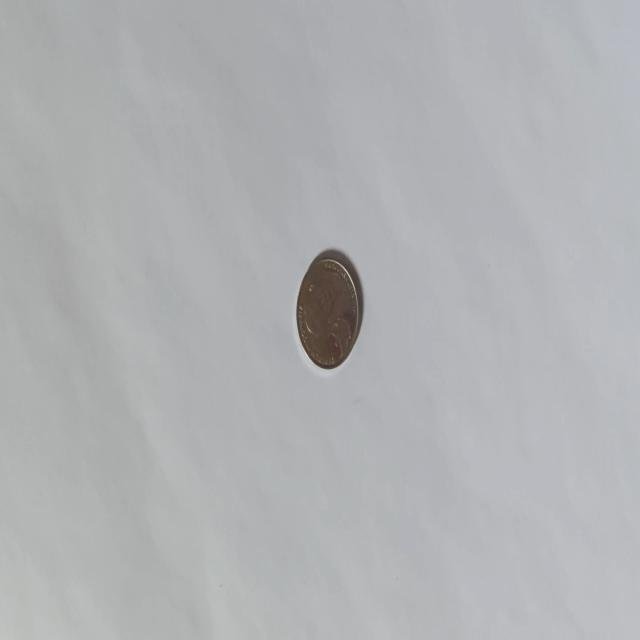seribu rupiah koin: (296, 249, 360, 371)
